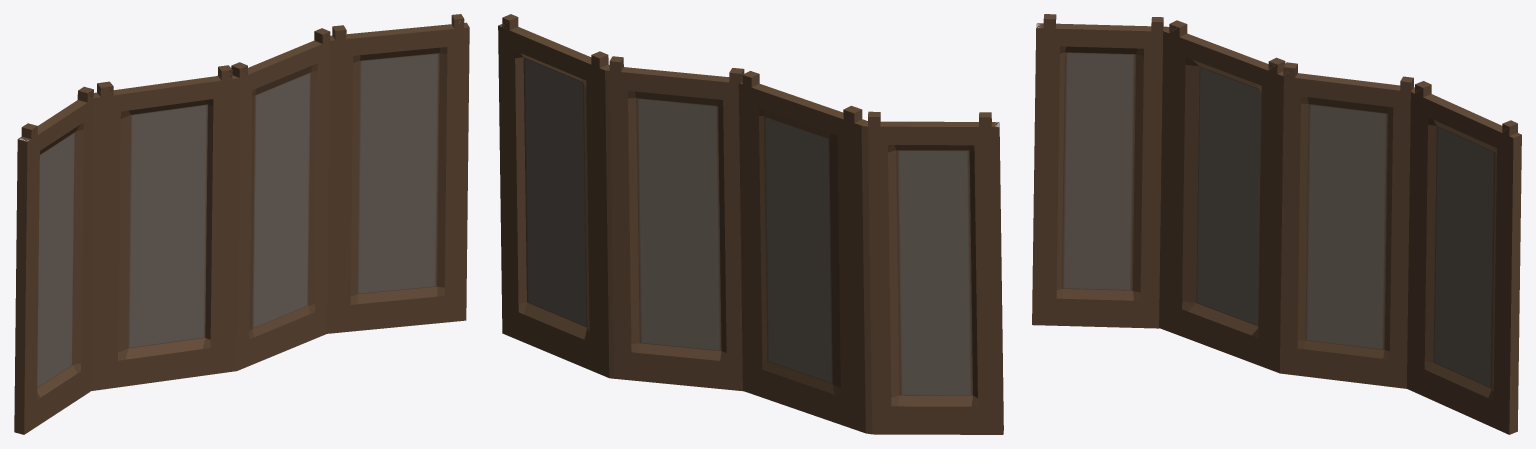
File: tirai.fbx
3 views of the same model, side by side, from view 1: azimuth 30°, elevation 25°; view 2: azimuth 150°, elevation 25°; view 3: azimuth 330°, elevation 25° (orthographic). The views are drawn at different scales.
Visible parts, largest first — view 1: Cube; view 2: Cube; view 3: Cube.
Boxes of the visible parts, x1,y1,x2,y2 form: Cube: (14, 14, 469, 434); Cube: (498, 14, 1003, 434); Cube: (1032, 14, 1521, 434).
Size of the model in its own units: 451 by 284 by 65.25.
